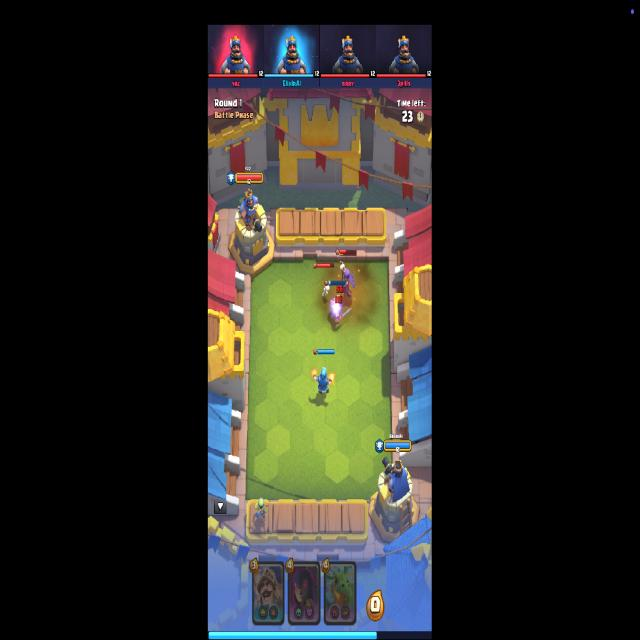barbarian: (329, 295, 352, 325)
card_baby_drag: (324, 560, 356, 626)
card_prince: (252, 560, 285, 626)
card_witch: (288, 560, 322, 626)
skeleton: (322, 283, 330, 298)
witch: (340, 260, 355, 298)
wizard: (313, 366, 334, 394)
